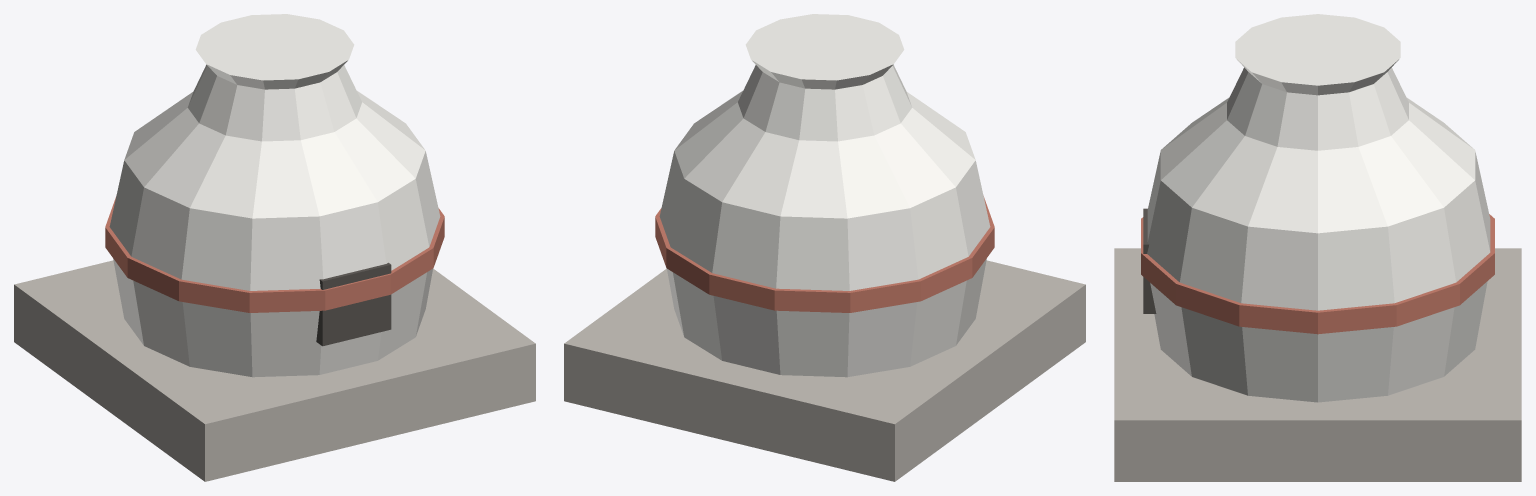
The picture shows the model from 3 angles, left to right: view 1: azimuth 30°, elevation 25°; view 2: azimuth 150°, elevation 25°; view 3: azimuth 270°, elevation 25°; orthographic projection. The views are drawn at different scales.
Parts seen in each view (by area): view 1: WB_sang_1.00; view 2: WB_sang_1.00; view 3: WB_sang_1.00.
Part boxes in pixels (<box>): WB_sang_1.00: <box>14,14,535,481</box>; WB_sang_1.00: <box>564,14,1085,481</box>; WB_sang_1.00: <box>1114,14,1521,481</box>.
Bounding box in the file's own units: 2.4 × 2.25 × 2.4.
